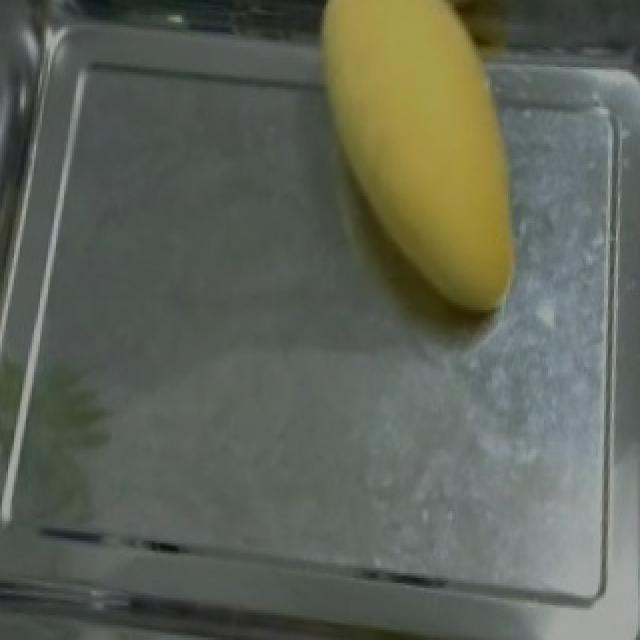fruit: (294, 0, 532, 335)
